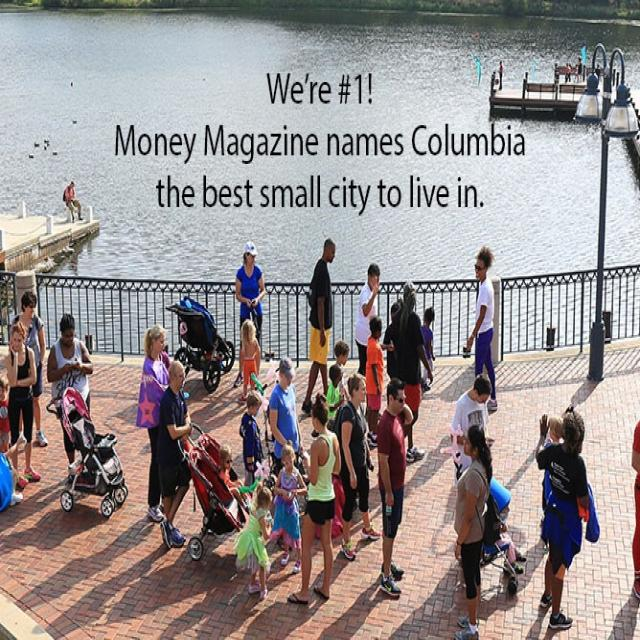body: (13, 552, 455, 640), (534, 404, 602, 632), (286, 391, 343, 604), (486, 46, 632, 125), (452, 422, 494, 638), (45, 310, 95, 484), (339, 370, 382, 562), (374, 371, 409, 600), (135, 322, 174, 524), (392, 278, 433, 466), (157, 357, 195, 552), (299, 234, 338, 418), (8, 287, 49, 448), (5, 320, 42, 490), (465, 243, 499, 414), (232, 237, 266, 390), (269, 443, 308, 575), (232, 481, 273, 602), (266, 356, 304, 478), (452, 374, 493, 480), (483, 486, 528, 577), (69, 513, 168, 554), (354, 260, 382, 378), (407, 434, 453, 499), (364, 314, 385, 448), (238, 387, 266, 487), (0, 432, 26, 532), (194, 388, 247, 434), (236, 318, 262, 405), (629, 417, 640, 603), (603, 585, 640, 639), (517, 536, 546, 596), (381, 301, 402, 381), (324, 361, 347, 434), (419, 305, 436, 394), (25, 482, 64, 520), (334, 338, 351, 403), (524, 608, 558, 640), (61, 178, 84, 223), (218, 442, 238, 489), (0, 374, 11, 456), (548, 413, 563, 443), (310, 426, 319, 438)
